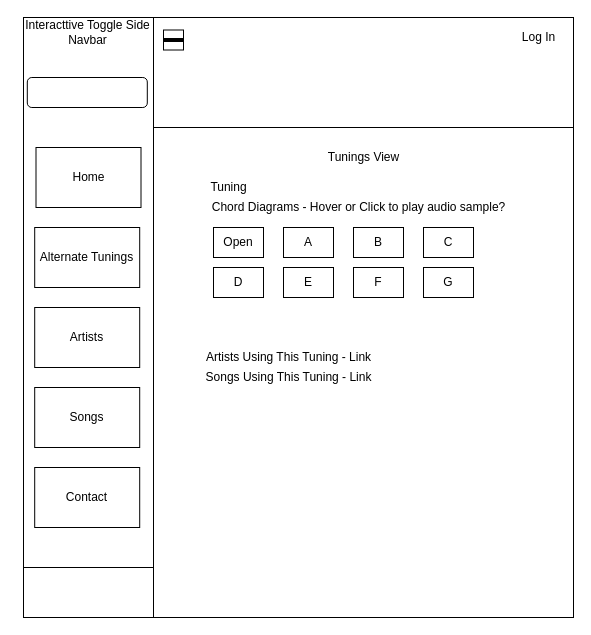
This 591x635 diagram has some shape labels left out. Each missing label, with the box of its shape:
Footer: (22, 566, 154, 618)
Header: (152, 16, 574, 128)
Search Bar: (26, 76, 147, 108)
